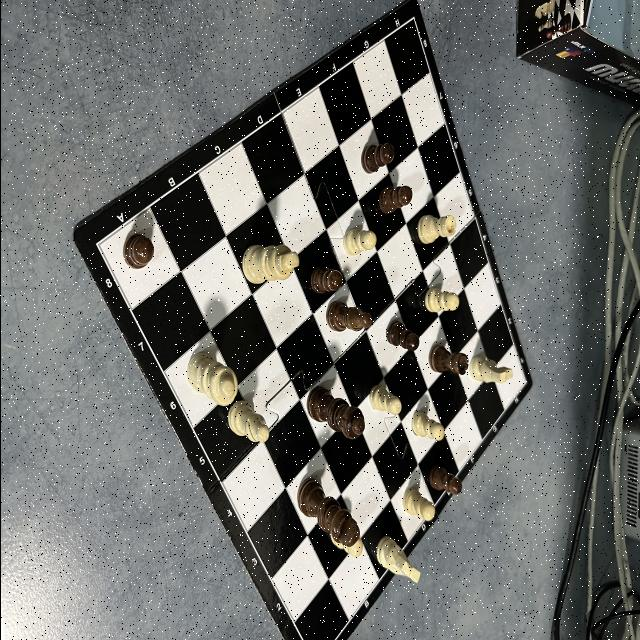Black-Bishop: (326, 302, 372, 330)
Black-King: (297, 478, 359, 546)
Black-Pawn: (123, 234, 153, 269), (360, 144, 394, 174), (386, 321, 418, 351), (428, 466, 461, 494), (378, 186, 412, 213), (310, 267, 342, 293)
Black-Queen: (306, 388, 364, 438)
Black-Rook: (428, 344, 468, 375)
White-Bishop: (227, 400, 269, 442)
White-King: (241, 246, 298, 284)
White-Knight: (375, 538, 420, 584), (468, 357, 512, 383)
White-Pawn: (402, 488, 434, 520), (369, 384, 401, 414), (328, 529, 362, 557), (412, 412, 444, 440), (344, 228, 376, 254), (425, 289, 458, 313)
White-Queen: (187, 352, 237, 406)
White-Rook: (416, 215, 454, 244)
